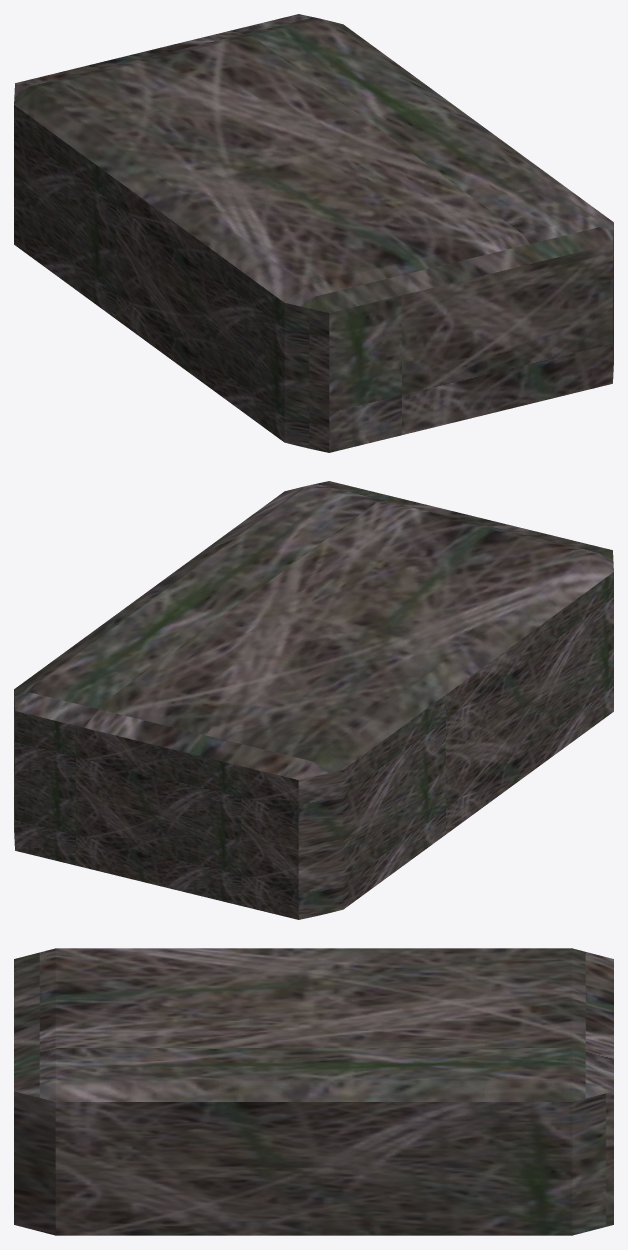
Rendered from hayWithtexture.glb.
3 renders of one model, top to bottom at view 1: azimuth 30°, elevation 25°; view 2: azimuth 150°, elevation 25°; view 3: azimuth 270°, elevation 25°, orthographic. The views are drawn at different scales.
Parts seen in each view (by area): view 1: Cube; view 2: Cube; view 3: Cube.
Part boxes in pixels (x1,y1,x2,y2): Cube: [14, 14, 613, 452]; Cube: [14, 481, 613, 919]; Cube: [14, 948, 613, 1235].
Size of the model in its own units: 0.8882 by 0.4182 by 1.47.
1 material, 1 textured.
